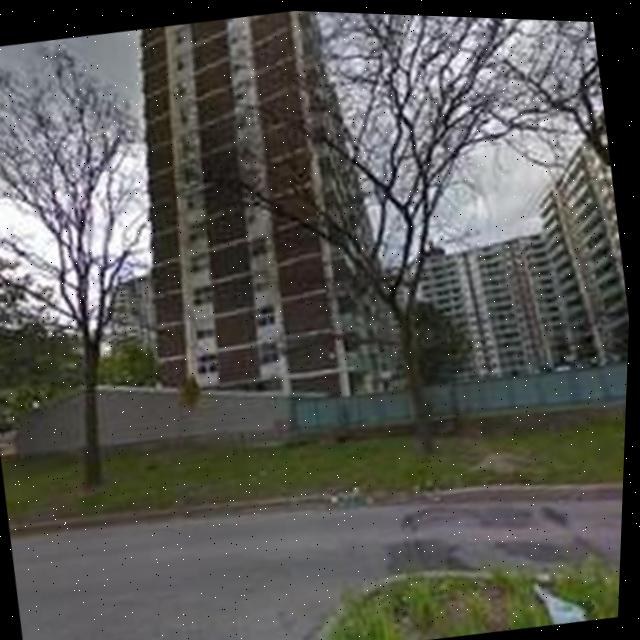building: (104, 4, 412, 436), (376, 226, 573, 397), (515, 105, 637, 372), (96, 268, 168, 395)
